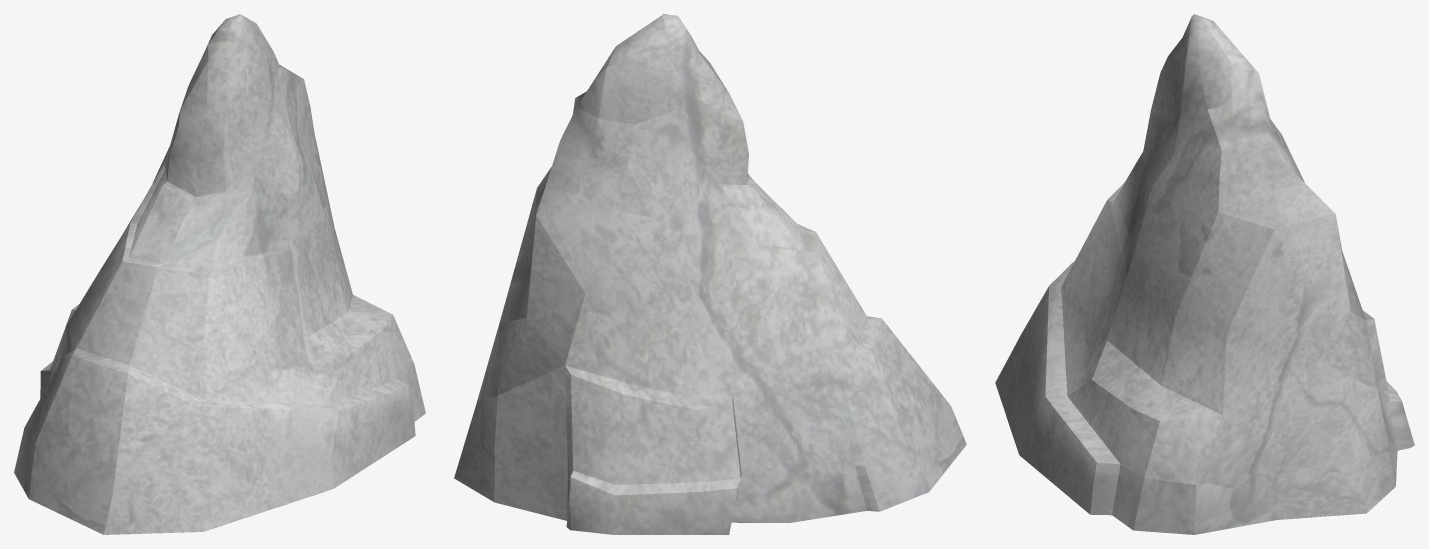
Rendered from Stone1.fbx.
3 renders of one model, left to right at view 1: azimuth 30°, elevation 25°; view 2: azimuth 150°, elevation 25°; view 3: azimuth 270°, elevation 25°, orthographic. The views are drawn at different scales.
Visible parts, largest first — view 1: Box001; view 2: Box001; view 3: Box001.
Boxes of the visible parts, x1,y1,x2,y2 form: Box001: [14, 14, 425, 534]; Box001: [454, 14, 966, 534]; Box001: [995, 14, 1414, 534].
Size of the model in its own units: 214 by 214 by 188.
1 material, 1 textured.
